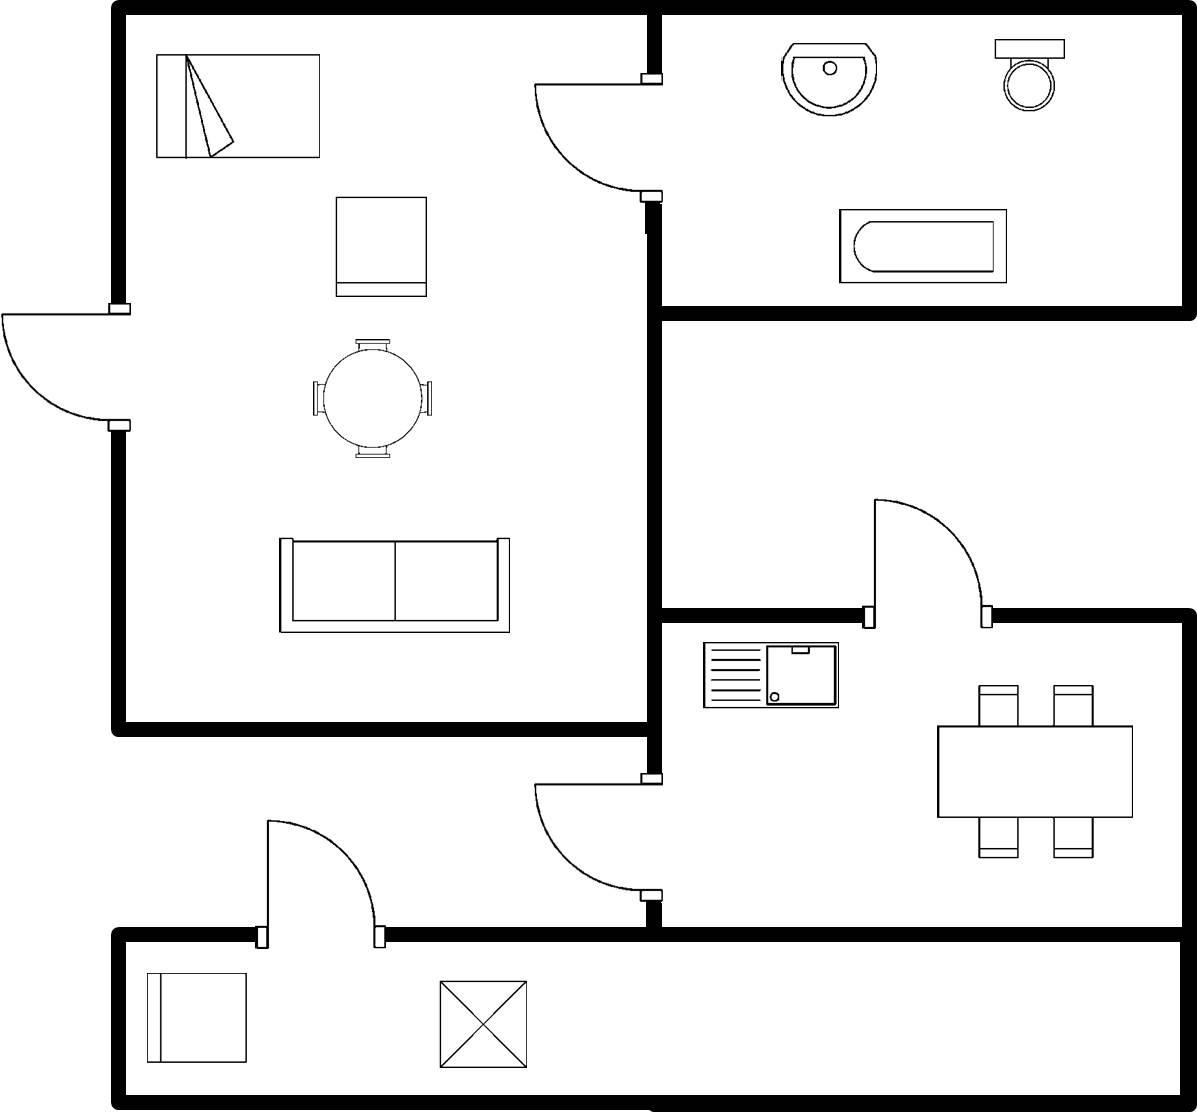bed: (146, 47, 328, 165)
dining_table: (926, 676, 1141, 866)
round_table: (299, 327, 440, 465)
sink: (694, 632, 845, 716)
sofa: (268, 527, 517, 643)
toilet: (984, 31, 1071, 114)
tub: (828, 199, 1013, 294)
